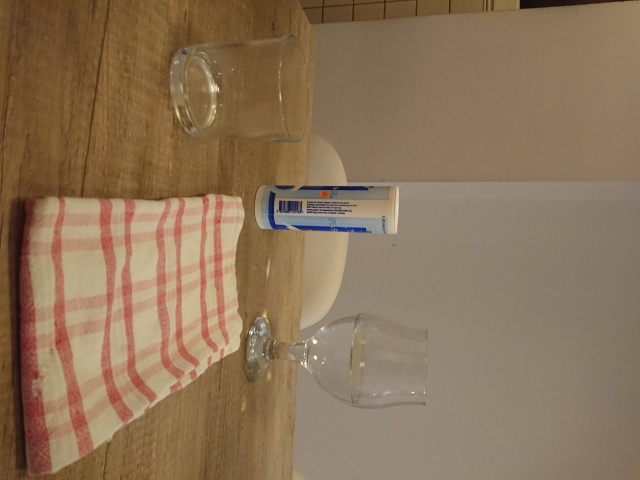Solana Pag Fine Sea Salt 250g: (252, 182, 402, 238)
